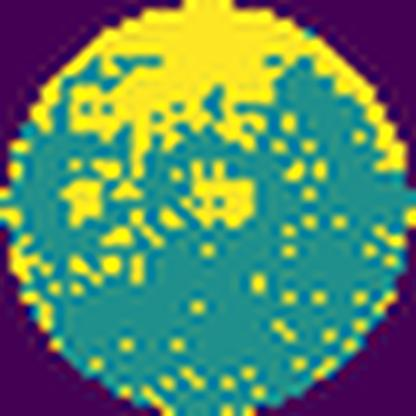Edge-Loc: (33, 0, 408, 177), (0, 229, 47, 283)
